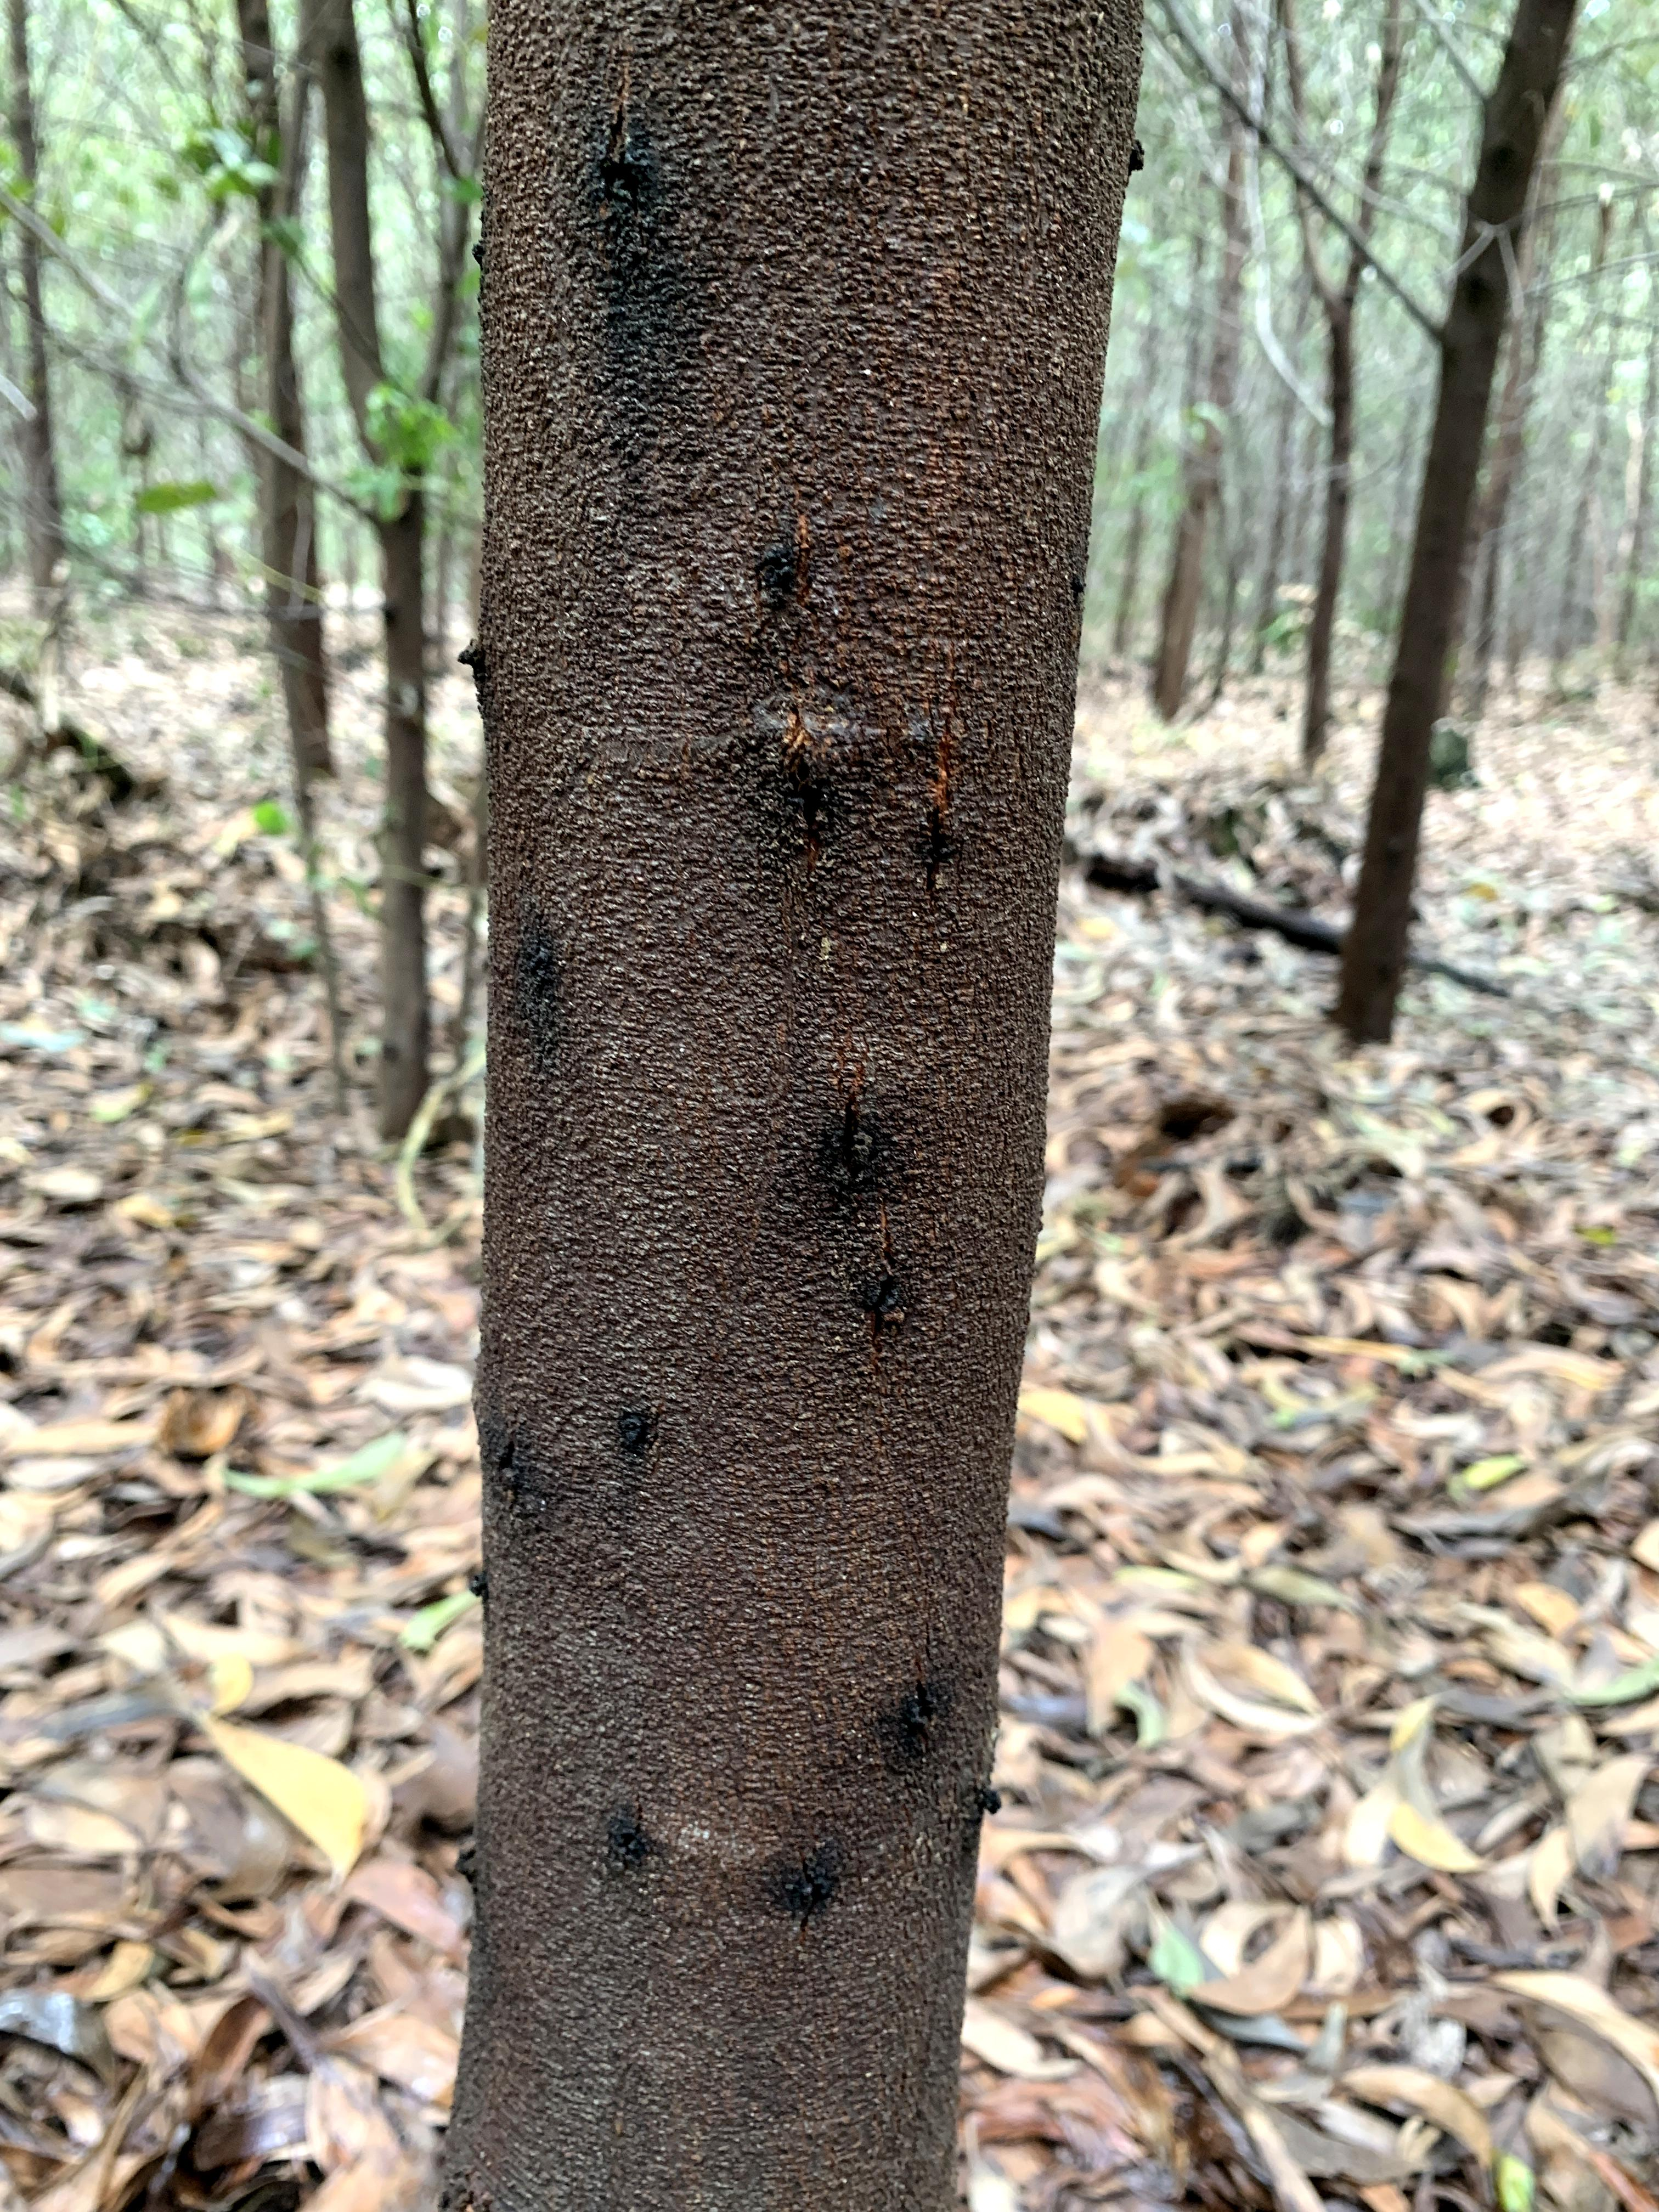Stem Borer: (552, 139, 699, 509), (727, 698, 863, 855), (551, 1801, 695, 1907), (814, 1075, 917, 1219), (514, 925, 608, 1078), (579, 1393, 709, 1493), (734, 535, 847, 639), (918, 726, 986, 900), (887, 1635, 971, 1766), (749, 1838, 850, 1937), (479, 1421, 544, 1527), (859, 1273, 918, 1371)
